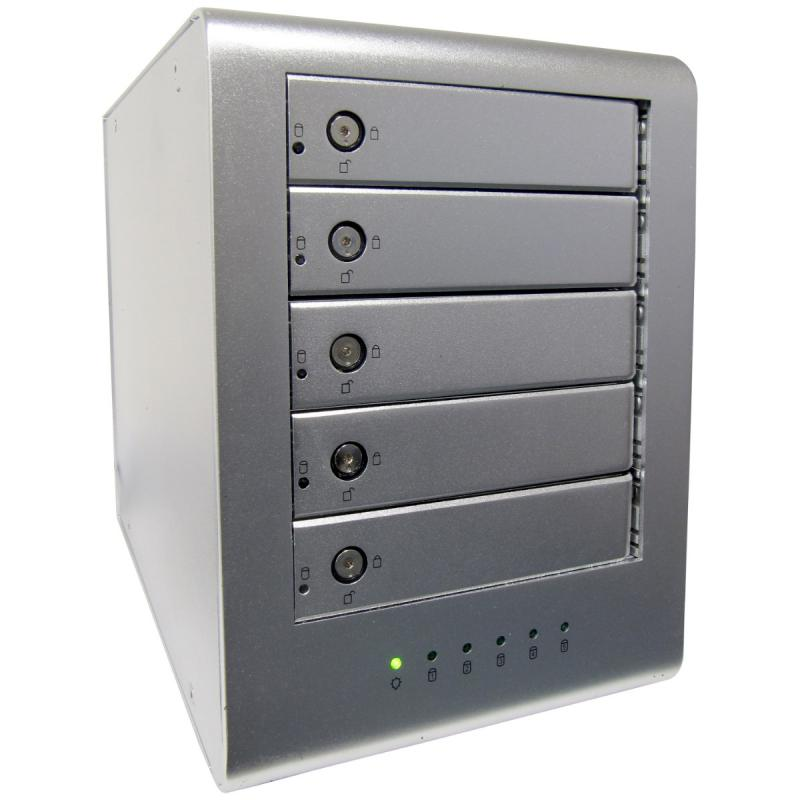Hard Disk Enclosure: (60, 1, 722, 797)
